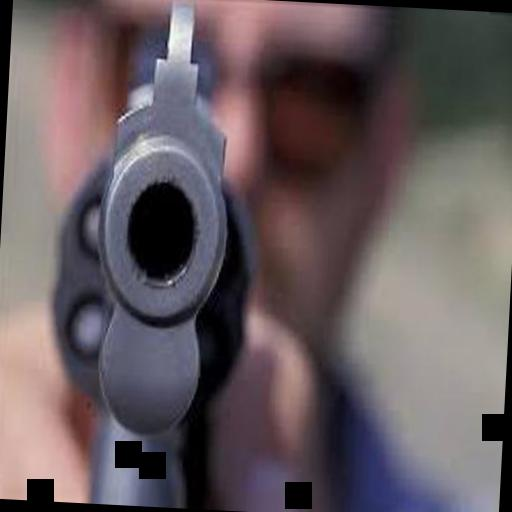Handgun: (38, 0, 270, 504)
